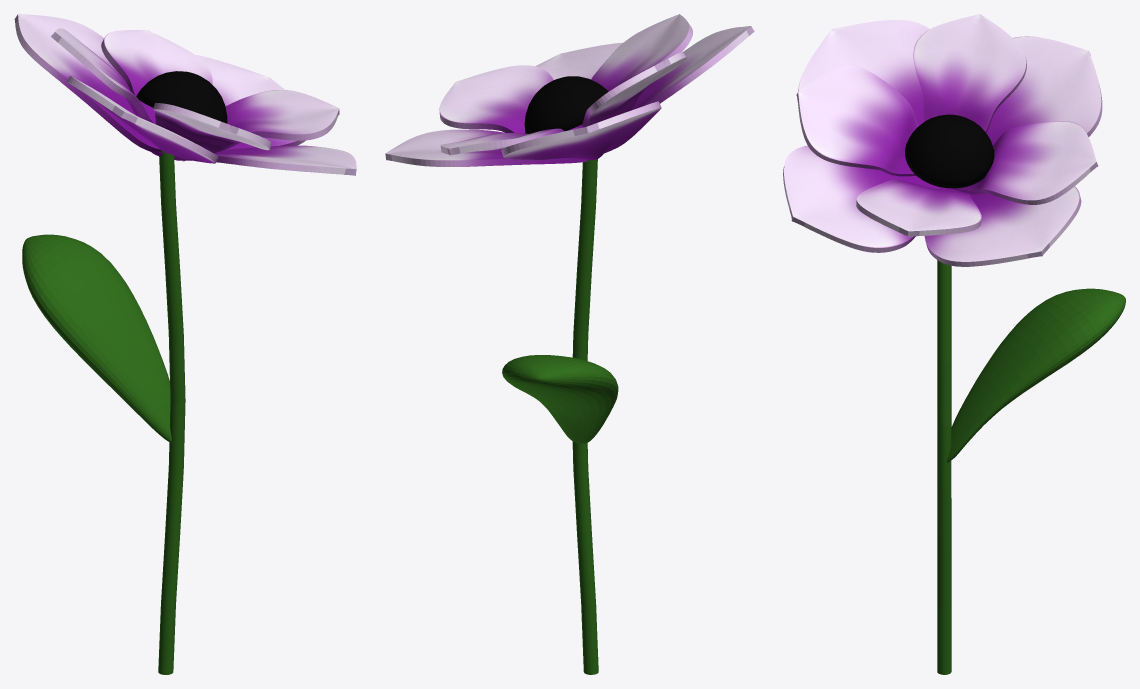
3 views of the same model, side by side, from view 1: azimuth 30°, elevation 25°; view 2: azimuth 150°, elevation 25°; view 3: azimuth 270°, elevation 25° (orthographic). The views are drawn at different scales.
Visible parts, largest first — view 1: f18; view 2: f18; view 3: f18.
Part boxes in pixels (x1,y1,x2,y2): f18: (14, 14, 356, 674); f18: (385, 14, 754, 674); f18: (783, 14, 1125, 674).
Size of the model in its own units: 0.4092 by 0.9328 by 0.471.
3 materials, 1 textured.
